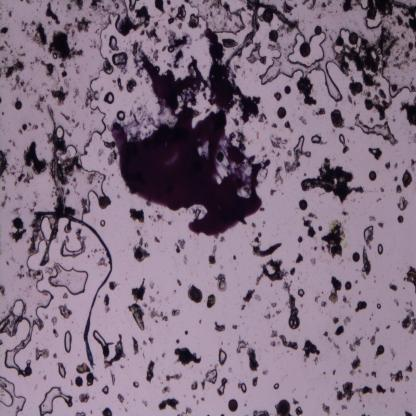Air bubble: (313, 32, 345, 104), (260, 34, 300, 88), (188, 0, 245, 36), (73, 103, 107, 160), (74, 162, 106, 222), (48, 260, 89, 300), (286, 30, 327, 66), (354, 114, 398, 144), (37, 384, 70, 416), (0, 376, 26, 416), (58, 228, 86, 260), (340, 26, 361, 53), (292, 134, 312, 160), (365, 9, 382, 30), (40, 215, 54, 240), (248, 42, 262, 63), (93, 330, 107, 349), (63, 330, 74, 354), (203, 370, 218, 384), (108, 34, 120, 51), (362, 224, 373, 242), (112, 52, 128, 64), (218, 348, 227, 366), (357, 0, 370, 10), (58, 362, 66, 378), (105, 90, 114, 104), (236, 340, 246, 352), (376, 242, 384, 256), (339, 133, 346, 149), (310, 135, 322, 144), (57, 124, 64, 139), (116, 110, 126, 120), (129, 0, 137, 12), (398, 197, 404, 210), (241, 382, 247, 393), (219, 384, 226, 393), (298, 288, 304, 298), (102, 386, 109, 394), (273, 383, 279, 389), (133, 381, 139, 387), (100, 220, 106, 226), (112, 374, 115, 385), (377, 302, 381, 310), (372, 148, 376, 156), (87, 382, 93, 386)
Background material: (301, 155, 365, 206), (337, 45, 381, 88), (40, 216, 63, 266), (320, 219, 347, 259), (50, 30, 86, 60), (365, 88, 396, 122), (130, 277, 147, 332), (334, 381, 374, 402), (24, 140, 48, 174), (261, 258, 290, 286), (50, 155, 65, 209), (104, 334, 126, 370), (20, 20, 47, 48), (249, 238, 283, 257), (297, 76, 317, 106), (376, 28, 398, 55), (28, 215, 43, 253), (46, 104, 58, 151), (394, 8, 416, 32), (399, 95, 416, 126), (174, 347, 201, 366), (9, 166, 33, 186), (0, 313, 20, 336), (134, 4, 153, 28), (359, 245, 372, 280), (327, 276, 343, 304), (164, 32, 186, 52), (133, 238, 151, 262), (3, 59, 25, 78), (44, 2, 60, 28), (301, 215, 317, 241), (401, 308, 416, 335), (138, 27, 160, 45), (246, 346, 261, 372), (0, 146, 11, 181), (392, 0, 416, 16), (289, 295, 300, 329), (348, 76, 364, 99), (88, 0, 112, 15), (370, 0, 392, 16), (403, 266, 416, 292), (280, 333, 298, 351), (118, 16, 134, 36), (158, 397, 180, 411), (203, 0, 221, 17), (149, 307, 168, 323), (271, 134, 289, 150), (221, 35, 239, 51), (348, 335, 364, 352), (285, 158, 300, 176), (12, 76, 27, 94), (41, 60, 56, 78), (52, 88, 67, 106), (129, 207, 145, 223), (241, 288, 257, 304), (35, 94, 49, 112), (302, 338, 313, 360), (10, 228, 26, 243), (76, 16, 90, 33), (349, 355, 360, 376), (146, 360, 156, 383), (274, 164, 284, 186), (208, 243, 218, 265), (403, 168, 413, 189), (58, 304, 72, 319), (176, 2, 187, 21), (55, 138, 69, 152), (27, 268, 41, 282), (63, 22, 76, 37), (126, 76, 138, 92), (393, 45, 405, 61), (84, 90, 96, 106), (370, 326, 379, 347), (175, 238, 186, 255), (74, 363, 91, 374), (153, 0, 165, 15), (16, 263, 26, 280), (355, 299, 368, 312), (150, 48, 162, 62), (29, 54, 41, 68), (405, 40, 414, 58), (80, 194, 88, 214), (214, 320, 227, 332), (340, 0, 354, 11), (149, 211, 163, 222), (206, 294, 216, 309), (132, 337, 140, 355), (166, 372, 182, 381), (103, 296, 111, 314), (78, 392, 91, 403), (389, 372, 403, 382), (253, 408, 270, 416), (10, 205, 22, 216), (96, 256, 108, 267), (88, 38, 98, 51), (322, 330, 332, 343), (342, 295, 352, 308), (255, 273, 265, 286), (116, 75, 124, 91), (108, 152, 117, 166), (404, 360, 413, 374), (178, 407, 192, 416), (64, 205, 75, 216), (258, 112, 268, 124), (71, 176, 78, 193), (333, 342, 342, 355), (1, 192, 8, 208), (382, 59, 390, 73), (360, 36, 371, 46), (170, 307, 180, 318), (284, 280, 293, 292), (102, 141, 115, 149), (64, 220, 72, 233), (284, 122, 294, 132), (376, 384, 386, 394), (61, 112, 71, 122), (8, 137, 18, 147), (298, 115, 308, 125), (166, 16, 176, 26), (308, 0, 318, 10), (388, 282, 398, 292), (334, 326, 344, 336), (74, 0, 83, 11), (102, 407, 113, 416), (394, 183, 403, 194), (0, 26, 9, 37), (51, 185, 58, 198), (323, 403, 330, 416), (108, 281, 118, 290), (147, 294, 156, 304), (296, 251, 302, 266), (117, 394, 126, 404), (408, 81, 416, 92), (88, 173, 96, 184), (191, 381, 199, 392), (395, 61, 407, 68), (0, 282, 6, 296), (376, 148, 382, 162), (64, 126, 72, 136), (344, 316, 352, 326), (410, 159, 416, 172), (18, 125, 26, 134), (292, 396, 300, 405), (274, 92, 282, 101), (296, 407, 304, 416), (317, 107, 326, 115), (223, 13, 232, 21), (398, 32, 407, 40), (103, 345, 109, 357), (64, 186, 71, 196), (17, 50, 27, 57), (346, 93, 352, 104), (270, 188, 278, 196), (162, 386, 170, 394), (314, 294, 322, 302), (274, 308, 282, 316), (340, 208, 348, 216), (370, 370, 378, 378), (0, 56, 8, 64), (168, 6, 177, 13), (289, 267, 296, 276), (309, 212, 318, 219), (141, 397, 148, 406), (30, 199, 37, 208), (271, 329, 278, 338), (183, 253, 188, 265), (52, 316, 58, 326), (33, 190, 39, 200), (149, 279, 155, 289), (15, 194, 23, 201), (254, 294, 262, 301), (60, 62, 67, 70), (66, 5, 74, 12), (384, 161, 391, 169), (369, 214, 376, 222), (270, 340, 278, 347), (7, 10, 14, 18), (327, 33, 333, 42), (104, 62, 110, 71), (390, 348, 396, 357), (310, 257, 316, 266), (30, 125, 40, 130), (74, 90, 79, 100), (177, 277, 182, 287), (76, 411, 86, 416), (25, 360, 32, 367), (404, 410, 412, 416), (4, 40, 10, 48), (378, 221, 384, 229), (261, 368, 267, 376), (390, 386, 396, 394), (53, 330, 59, 338), (241, 304, 247, 312), (320, 140, 328, 146), (298, 235, 304, 243), (154, 235, 160, 243), (61, 293, 69, 299), (286, 150, 292, 158), (265, 312, 271, 320), (334, 316, 340, 324), (136, 228, 142, 236), (52, 52, 58, 59), (348, 126, 355, 132), (63, 70, 69, 77), (366, 242, 372, 249), (145, 200, 151, 207), (321, 300, 327, 307), (271, 302, 278, 308), (320, 1, 327, 7), (343, 147, 349, 154), (76, 64, 80, 74), (201, 382, 206, 390), (413, 35, 416, 48), (260, 146, 266, 152), (404, 376, 410, 382), (394, 176, 400, 182), (316, 13, 322, 19), (92, 248, 98, 254), (220, 378, 226, 384), (271, 123, 278, 128), (81, 123, 86, 130), (40, 122, 45, 129), (252, 221, 257, 228), (341, 405, 348, 410), (123, 406, 128, 413), (64, 80, 69, 87), (367, 146, 372, 153), (394, 299, 399, 306), (376, 197, 383, 202), (233, 254, 238, 261), (256, 131, 260, 139), (374, 352, 378, 360), (76, 120, 80, 128), (394, 161, 398, 169), (314, 356, 318, 364), (150, 336, 154, 344), (0, 46, 5, 52), (143, 340, 148, 346), (161, 351, 166, 357), (303, 0, 309, 5), (99, 152, 104, 158), (320, 246, 325, 252), (260, 207, 265, 213), (231, 324, 237, 329), (175, 338, 180, 344), (200, 396, 205, 402), (29, 207, 35, 212), (228, 368, 233, 374), (380, 186, 385, 192), (258, 231, 262, 238), (370, 117, 374, 124), (0, 67, 3, 76), (116, 194, 121, 199), (5, 261, 10, 266), (167, 0, 172, 5), (364, 372, 369, 377), (385, 325, 390, 330), (1, 186, 6, 191), (332, 369, 336, 375), (184, 328, 188, 334), (70, 378, 73, 386), (215, 363, 219, 369), (314, 245, 318, 251), (252, 377, 258, 381), (235, 25, 242, 28), (358, 398, 363, 402), (263, 154, 268, 158), (334, 386, 339, 390), (312, 110, 316, 115), (412, 58, 416, 63), (72, 118, 76, 123), (168, 220, 172, 225), (220, 237, 224, 242), (332, 128, 336, 133), (173, 289, 177, 294), (53, 353, 57, 358), (253, 381, 257, 386), (121, 364, 125, 369), (272, 149, 276, 154), (26, 0, 32, 3), (328, 0, 331, 6), (43, 374, 46, 380), (238, 382, 241, 388), (113, 78, 116, 84), (0, 96, 2, 105), (346, 338, 349, 344), (193, 394, 196, 400), (410, 301, 413, 307), (402, 286, 406, 290), (8, 198, 12, 202), (276, 153, 280, 157), (358, 369, 362, 373), (362, 403, 365, 408), (353, 101, 356, 106), (361, 413, 366, 416), (385, 404, 388, 409), (359, 290, 362, 295), (199, 319, 202, 324), (99, 247, 102, 252), (95, 377, 98, 382), (303, 172, 306, 177), (355, 279, 358, 284), (90, 410, 93, 415), (34, 90, 38, 93), (373, 280, 376, 284), (405, 302, 408, 306), (196, 400, 199, 404), (371, 313, 374, 317), (221, 413, 225, 416), (244, 402, 247, 406), (10, 49, 12, 54), (323, 371, 326, 374), (321, 291, 324, 294), (369, 317, 372, 320), (87, 255, 90, 258), (336, 412, 338, 416), (336, 380, 338, 384), (206, 414, 210, 416), (398, 321, 401, 323), (20, 46, 22, 49), (2, 112, 4, 115), (367, 337, 370, 339), (112, 173, 113, 177), (405, 392, 407, 394), (368, 414, 370, 416), (20, 0, 24, 1)
Cellulose filter fibre: (228, 0, 302, 65)
Cotton: (36, 208, 113, 368)
Diatom: (3, 264, 54, 371), (187, 286, 203, 304), (12, 298, 26, 317), (277, 398, 290, 416), (331, 108, 342, 128), (35, 347, 49, 361), (300, 42, 312, 58), (262, 7, 274, 22), (98, 195, 108, 210), (277, 106, 287, 119), (228, 399, 238, 412), (217, 278, 227, 291), (349, 31, 358, 45), (283, 1, 293, 13), (298, 199, 308, 211), (367, 7, 376, 20), (270, 29, 279, 41), (13, 217, 22, 229), (74, 376, 83, 387), (368, 170, 377, 181), (314, 24, 322, 36), (13, 100, 22, 109), (377, 345, 385, 355), (344, 280, 352, 290), (352, 252, 360, 262), (86, 372, 94, 382), (397, 214, 404, 224), (25, 367, 32, 377), (310, 345, 317, 354), (66, 401, 74, 408), (284, 86, 291, 94), (392, 84, 398, 92), (344, 63, 349, 68), (318, 225, 322, 231), (316, 350, 320, 354)
Pen: (114, 45, 270, 241)
